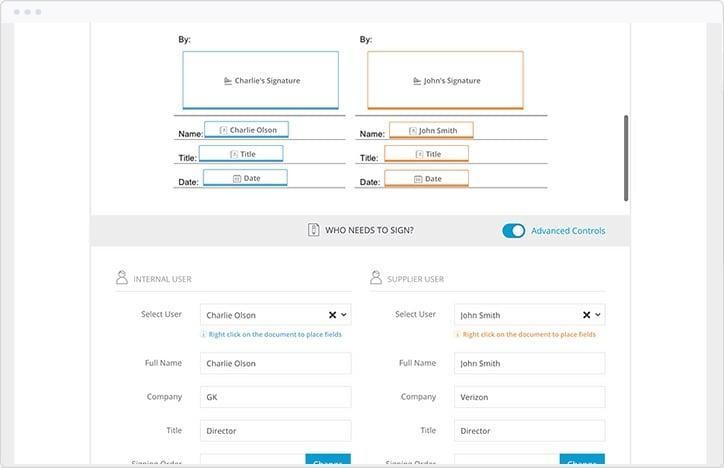dropdown: (455, 304, 606, 328), (202, 304, 351, 326)
icon: (115, 267, 130, 289), (372, 268, 384, 290)
input: (201, 420, 353, 443), (455, 353, 607, 376), (456, 387, 607, 410), (201, 353, 353, 375), (201, 387, 353, 409), (455, 421, 606, 442)
label: (387, 274, 448, 288), (137, 275, 197, 288), (399, 392, 439, 406), (399, 358, 439, 372), (140, 309, 184, 321), (146, 392, 185, 404), (145, 358, 185, 369), (395, 311, 439, 321), (361, 130, 385, 141), (179, 153, 199, 165), (419, 426, 439, 438), (179, 131, 204, 140), (360, 154, 381, 164), (180, 178, 199, 189), (359, 179, 382, 188), (167, 426, 183, 438)
switch: (502, 223, 527, 239)
